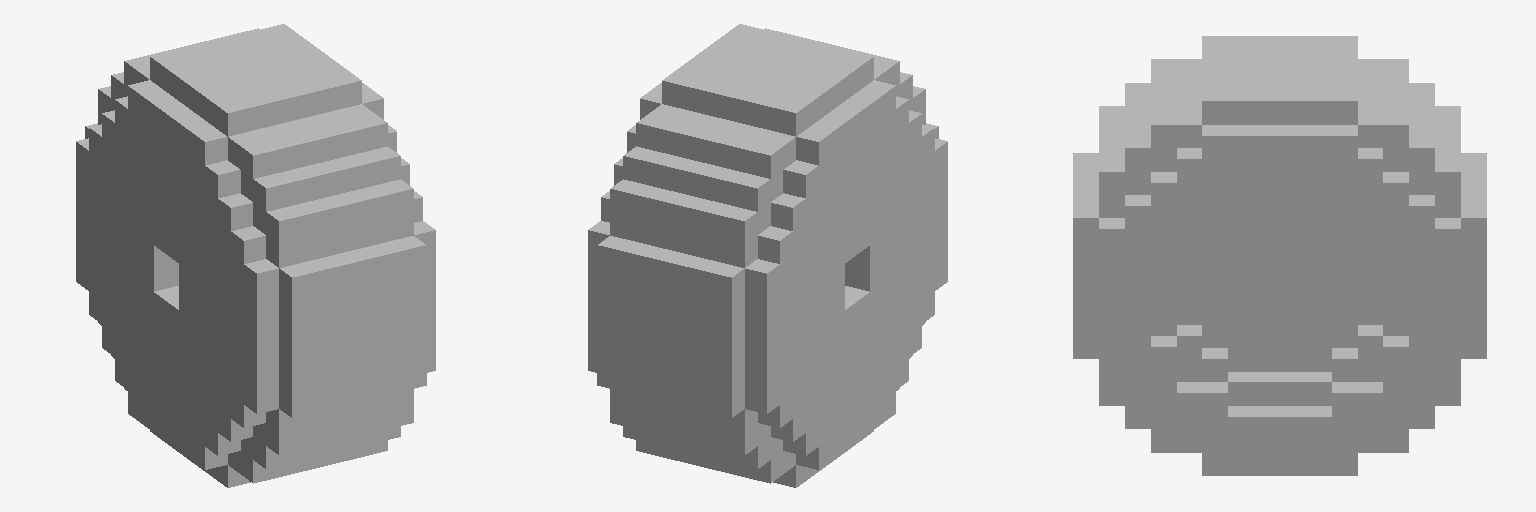
File: Wheel Normal.obj
3 views of the same model, side by side, from view 1: azimuth 30°, elevation 25°; view 2: azimuth 150°, elevation 25°; view 3: azimuth 270°, elevation 25° (orthographic).
Size of the model in its own units: 8 by 16 by 16.